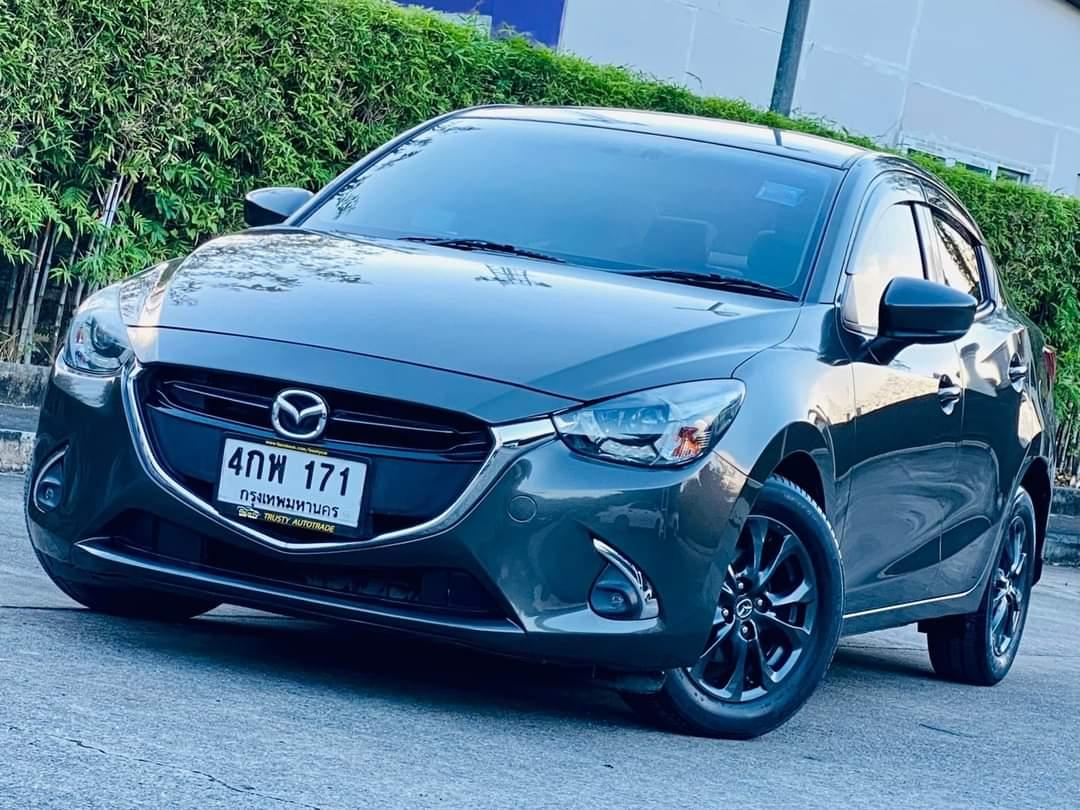license-plate: (206, 423, 375, 540)
